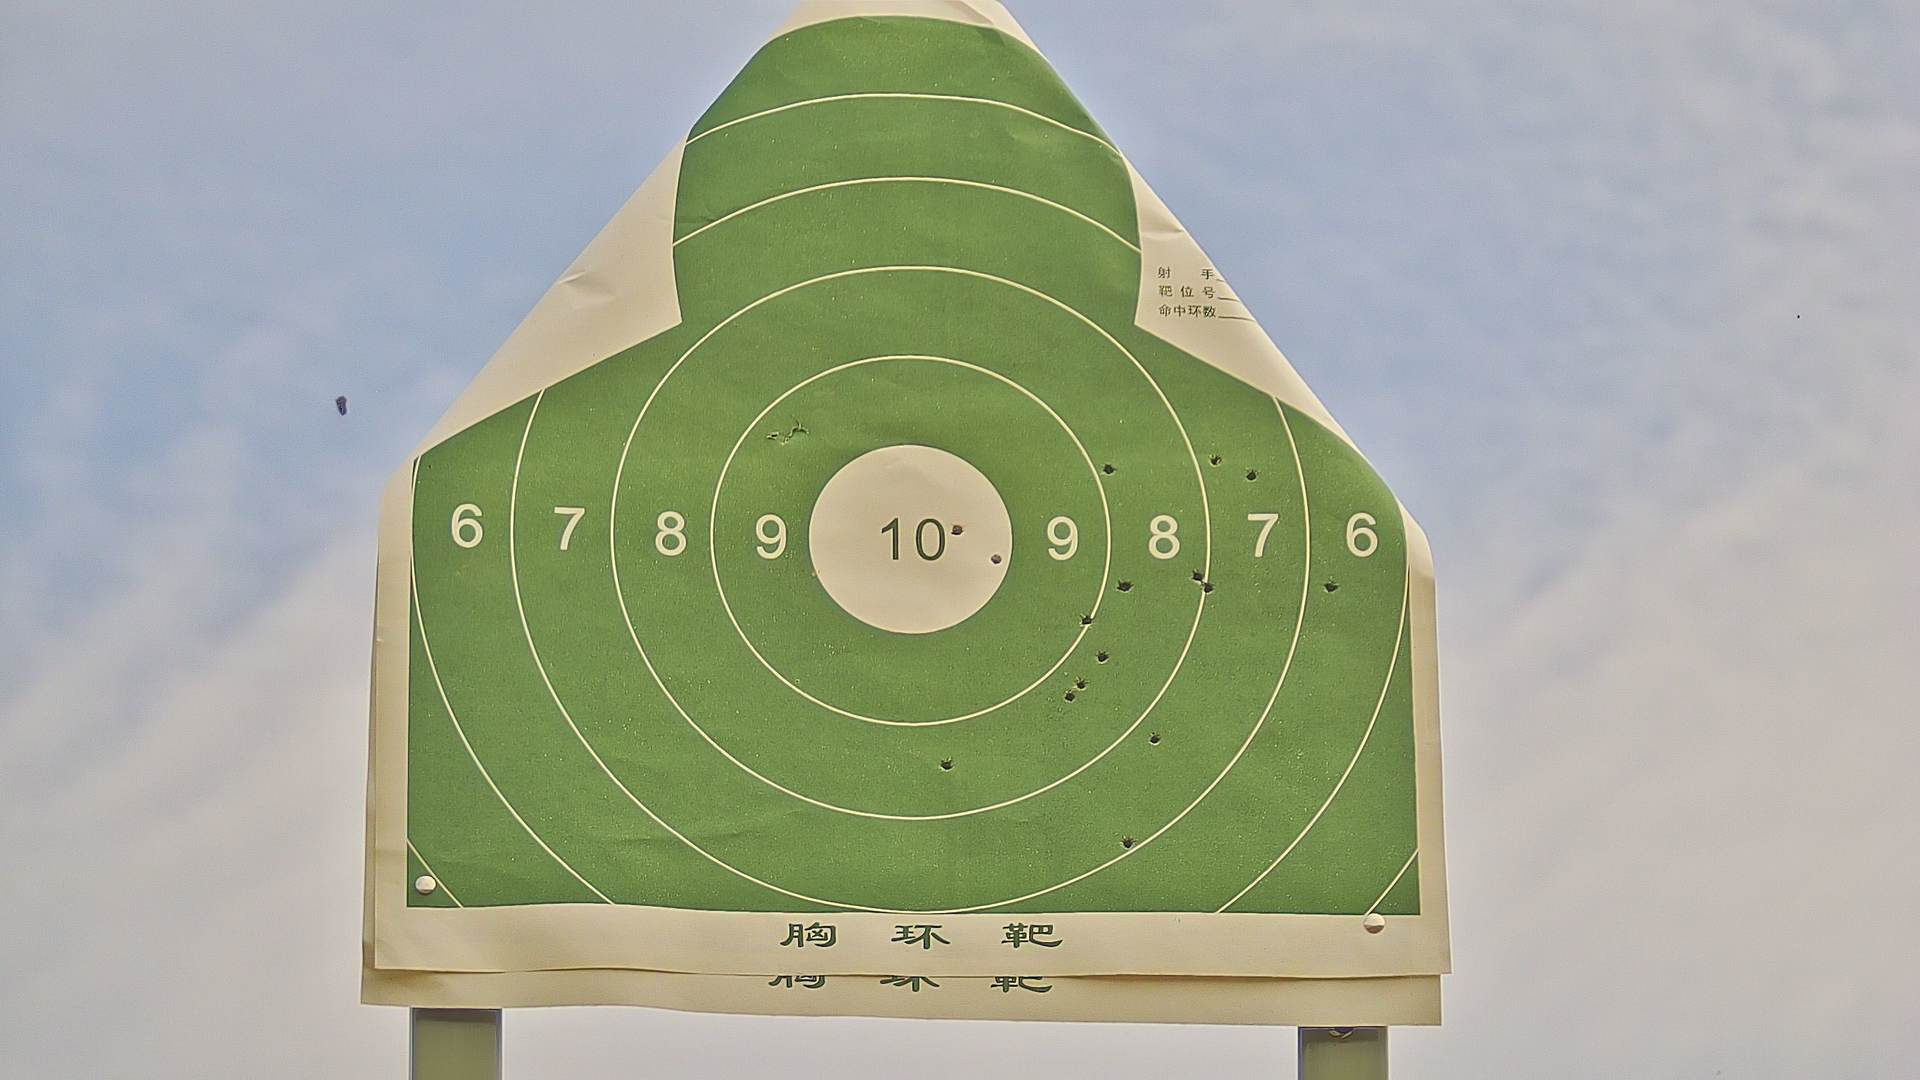hole: (985, 549, 1007, 568), (1317, 579, 1342, 595), (1113, 576, 1134, 595), (938, 756, 957, 774), (949, 520, 968, 538), (1207, 451, 1226, 468), (1062, 686, 1076, 708), (1101, 459, 1118, 477), (1076, 609, 1093, 626), (1146, 729, 1163, 746), (1120, 833, 1137, 851), (1197, 582, 1216, 597), (1098, 647, 1112, 669), (1246, 465, 1261, 484), (1185, 568, 1203, 583), (1073, 676, 1087, 691)
kernel: (903, 538, 911, 542)
target: (411, 20, 1422, 920)
ten: (804, 440, 1017, 638)
